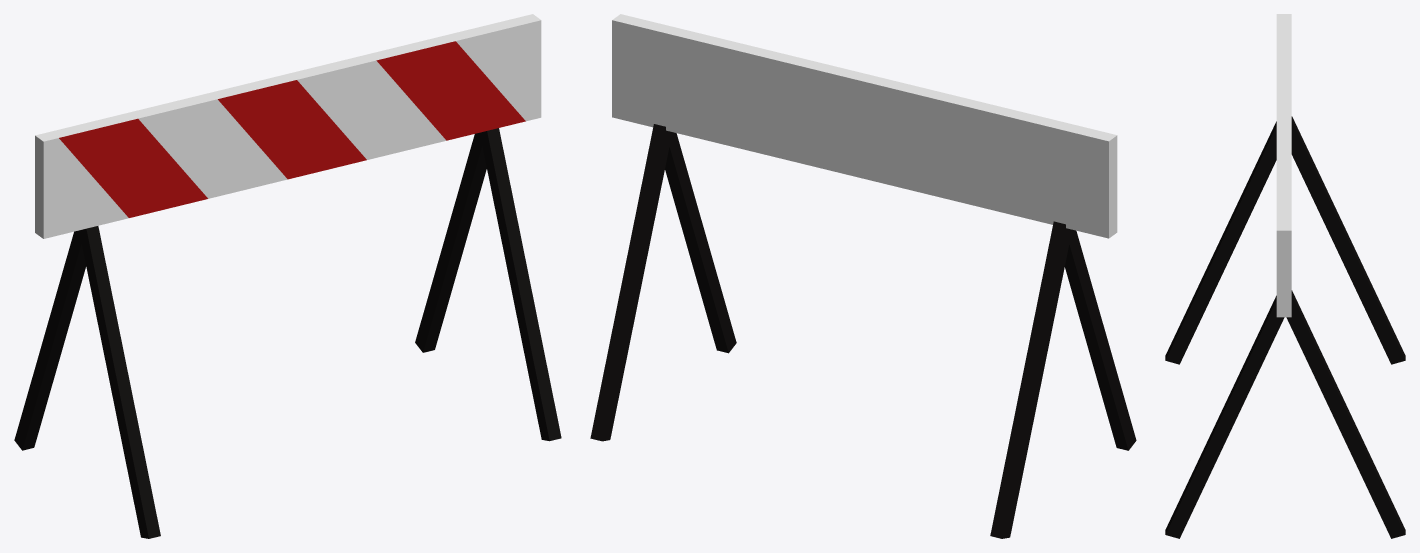
Rendered from engel2.FBX.
The picture shows the model from 3 angles, left to right: view 1: azimuth 30°, elevation 25°; view 2: azimuth 150°, elevation 25°; view 3: azimuth 270°, elevation 25°; orthographic projection. The views are drawn at different scales.
Parts seen in each view (by area): view 1: Box005; view 2: Box005; view 3: Box005.
Part boxes in pixels (box(x1,y1,x2,y2)): Box005: box(14, 14, 561, 538); Box005: box(590, 14, 1136, 538); Box005: box(1165, 14, 1405, 538).
Size of the model in its own units: 26.65 by 18.75 by 12.49.
